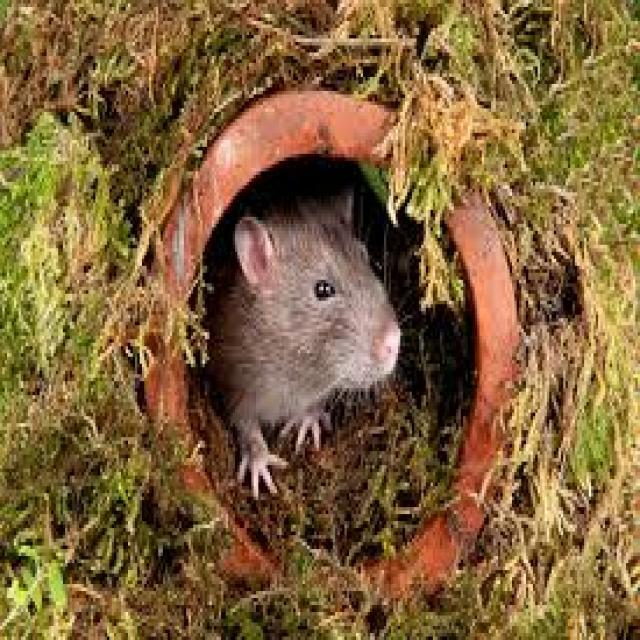Rat: (226, 199, 416, 525)
